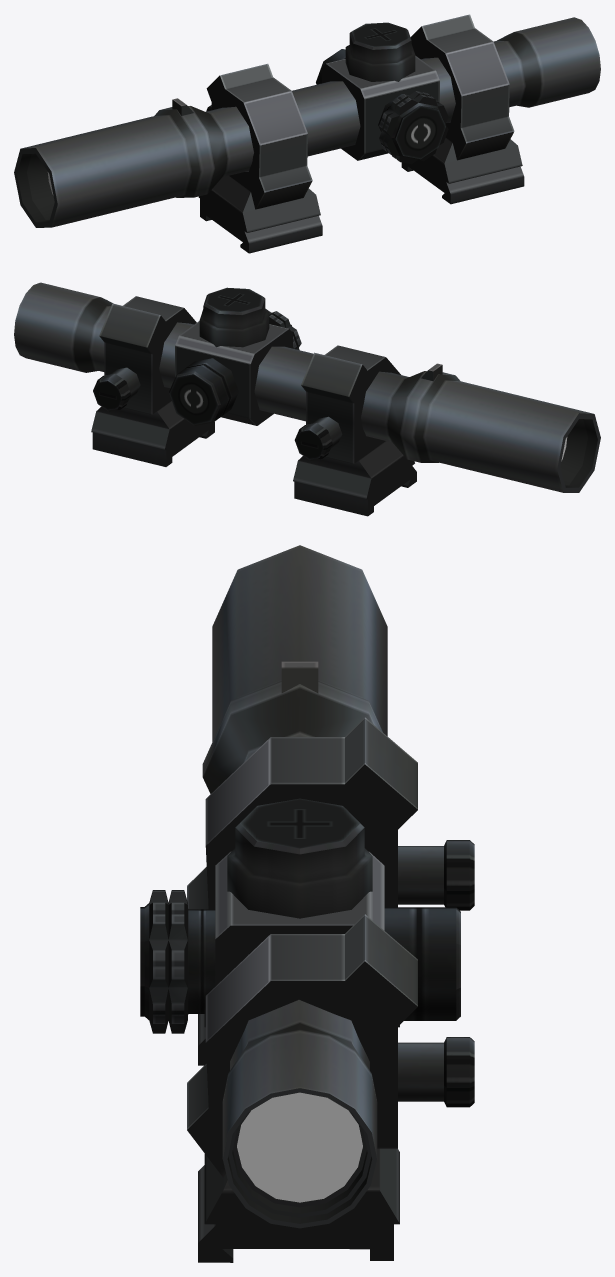
The model's file is Scopes_8xCQBSS_Base_3_Mod.FBX.
3 renders of one model, top to bottom at view 1: azimuth 30°, elevation 25°; view 2: azimuth 150°, elevation 25°; view 3: azimuth 270°, elevation 25°, orthographic. The views are drawn at different scales.
Visible parts, largest first — view 1: Scopes_8xCQBSS_Base_3_Mod; view 2: Scopes_8xCQBSS_Base_3_Mod; view 3: Scopes_8xCQBSS_Base_3_Mod, Lens_8xCQBSS_Base_3_Mod_1.
Boxes of the visible parts, x1,y1,x2,y2 form: Scopes_8xCQBSS_Base_3_Mod: (14,14,600,253); Scopes_8xCQBSS_Base_3_Mod: (14,282,600,516); Scopes_8xCQBSS_Base_3_Mod: (140,545,474,1262); Lens_8xCQBSS_Base_3_Mod_1: (237,1092,362,1202).
Size of the model in its own units: 37.94 by 10.75 by 10.06.
